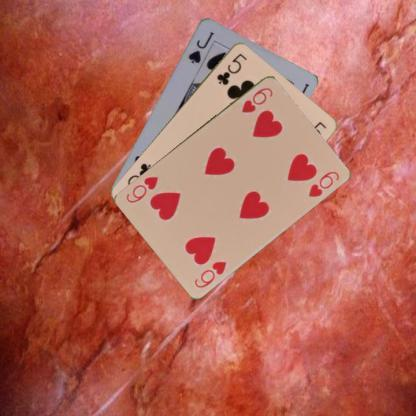5c: (214, 50, 249, 86)
6h: (192, 258, 228, 290), (240, 84, 274, 115)
Js: (186, 29, 216, 72)
